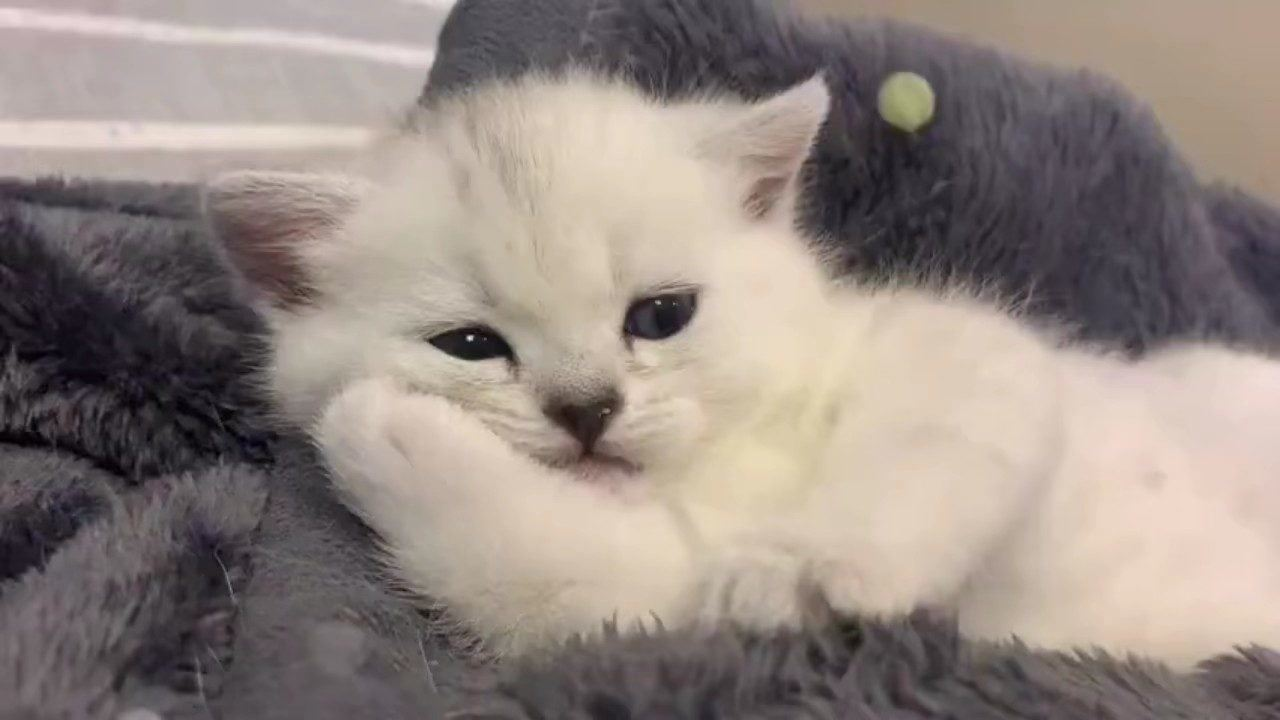cat: (203, 62, 1280, 673)
